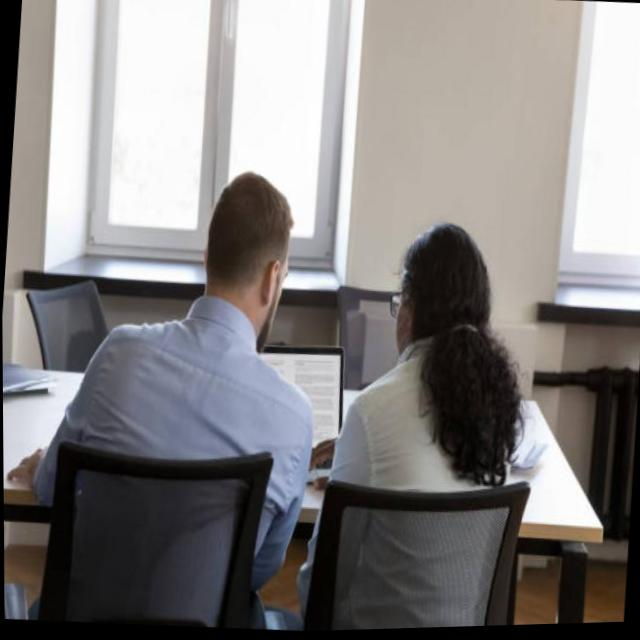no helmet: (198, 158, 297, 353), (389, 218, 501, 360)
